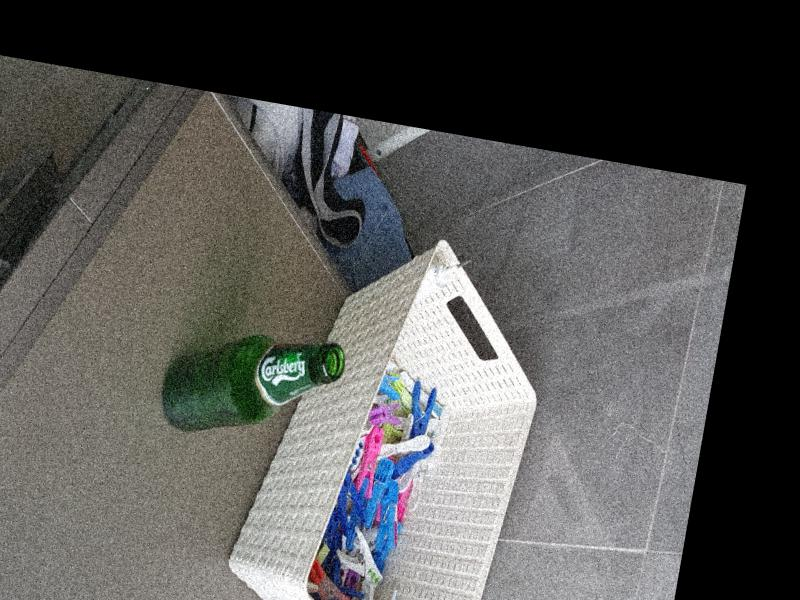Beer: (156, 316, 348, 456)
